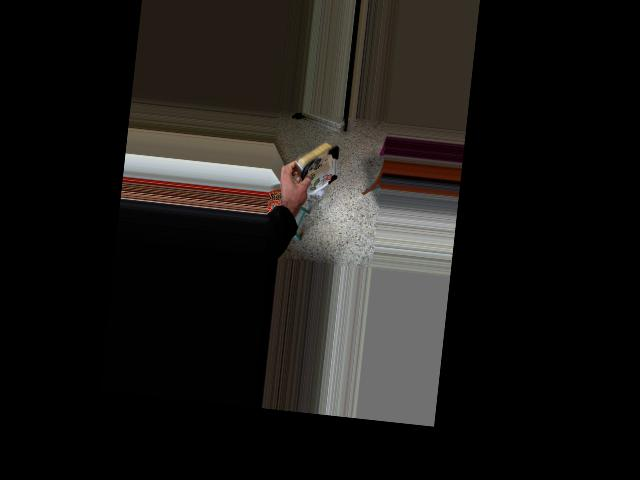cheese: (275, 124, 358, 197)
